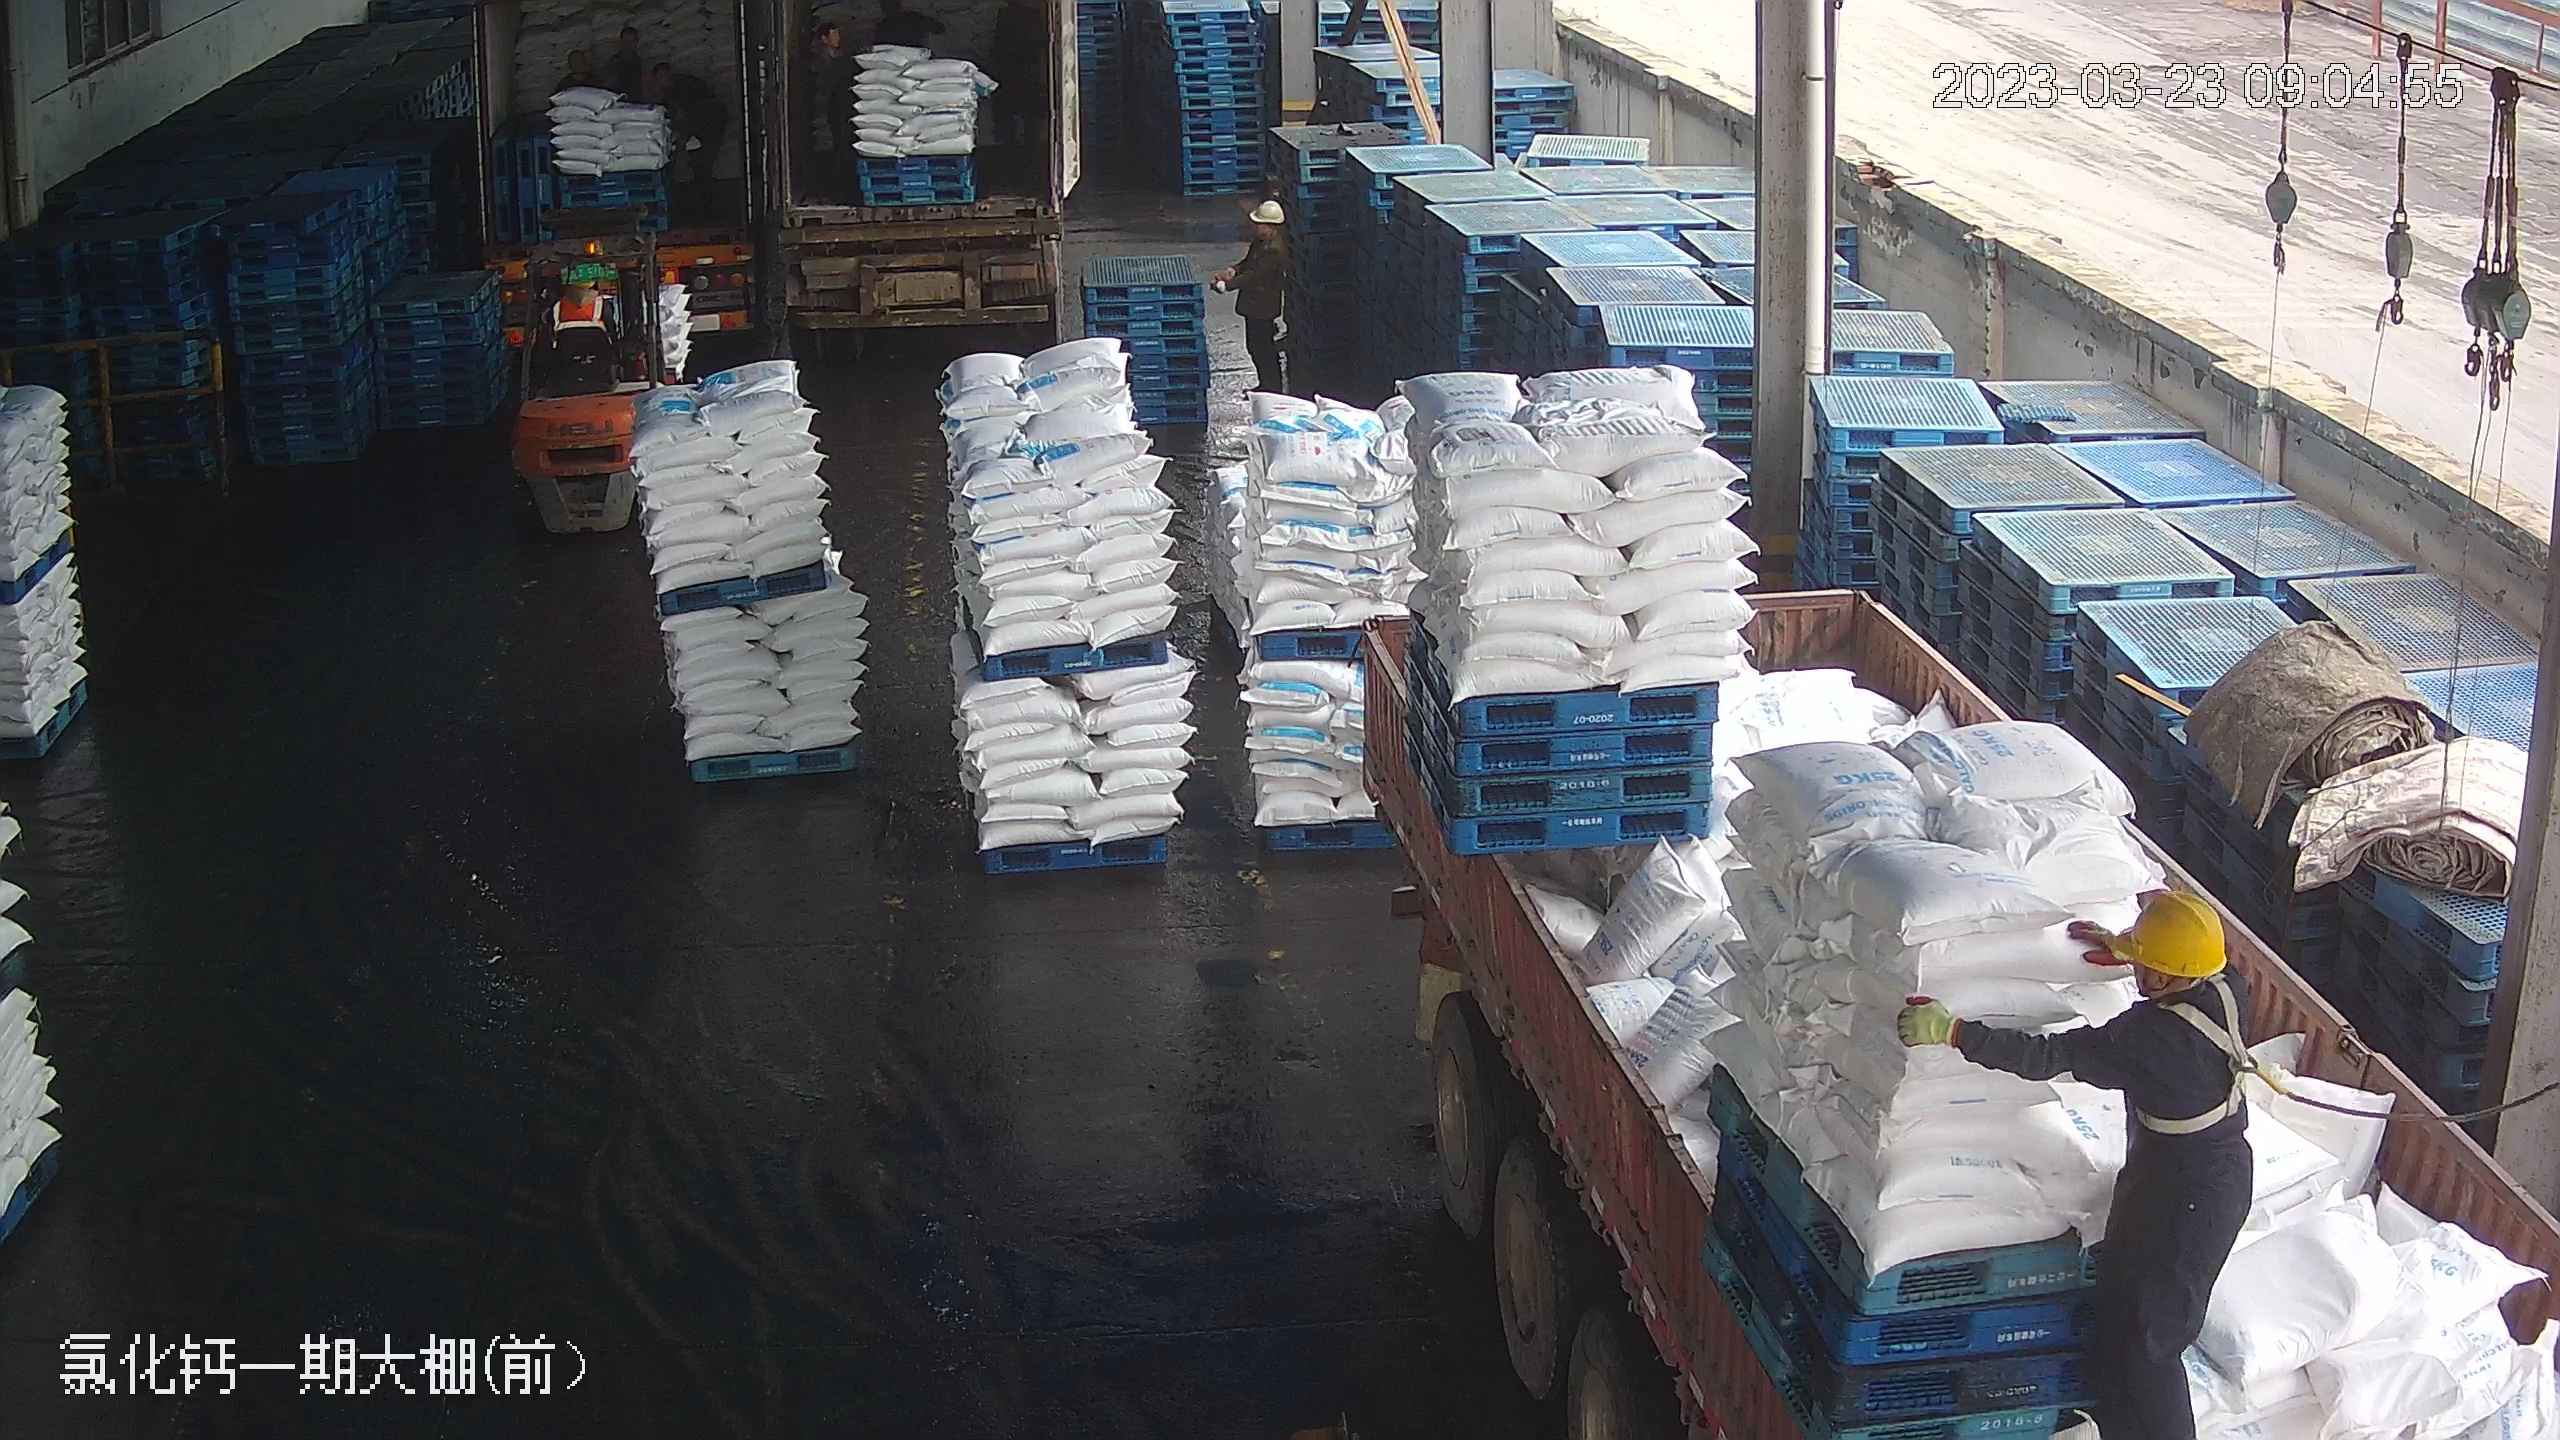belt: (2137, 983, 2284, 1132)
head: (2071, 882, 2245, 1084), (1237, 198, 1293, 266), (603, 25, 643, 96), (815, 22, 853, 93), (652, 60, 704, 107), (554, 49, 603, 87)
helmet: (2108, 882, 2226, 977), (1251, 197, 1283, 226)
people: (1906, 879, 2254, 1430), (1228, 194, 1296, 401), (809, 25, 880, 220), (651, 58, 729, 207)
truck: (1290, 326, 2547, 1439), (760, 4, 1084, 324), (458, 1, 756, 300)
